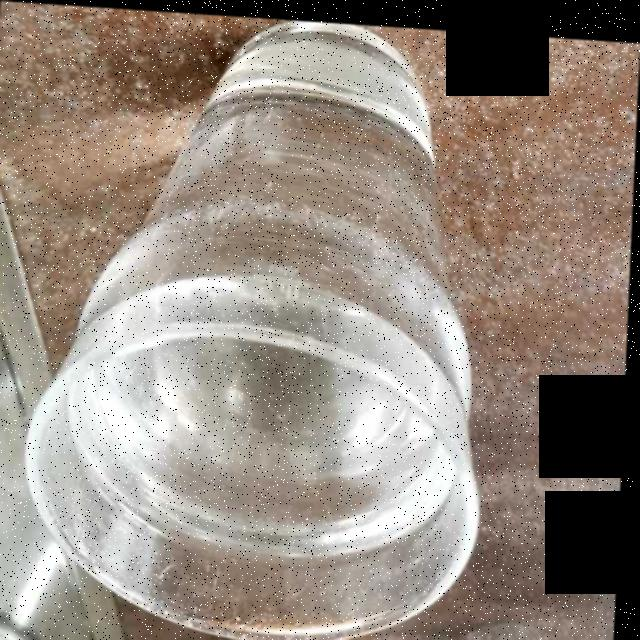water: (59, 75, 474, 570)
